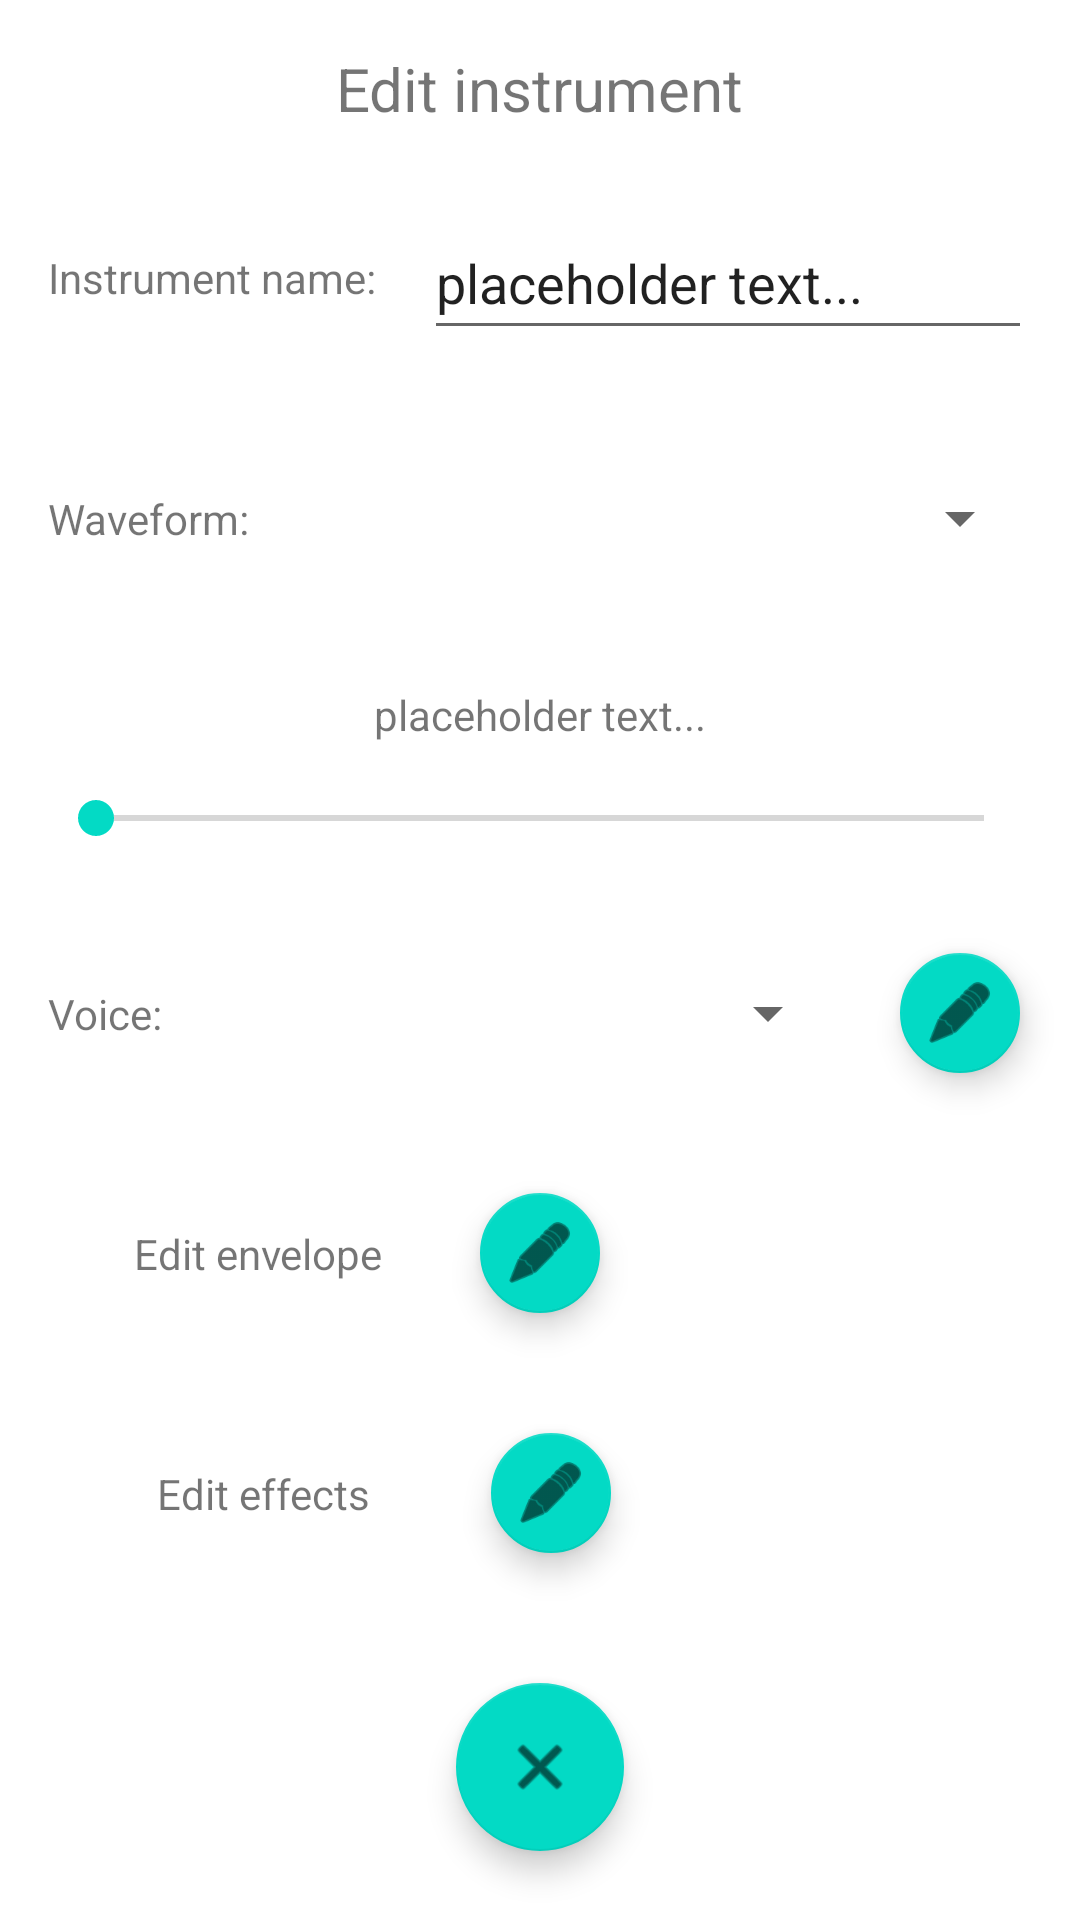

Where to tap for icons on this 1080*1920 app screen, as (x=x, y=y):
close this menu: (x=540, y=1767)
Edit voice: (x=961, y=1016), (x=540, y=1257), (x=551, y=1499)
